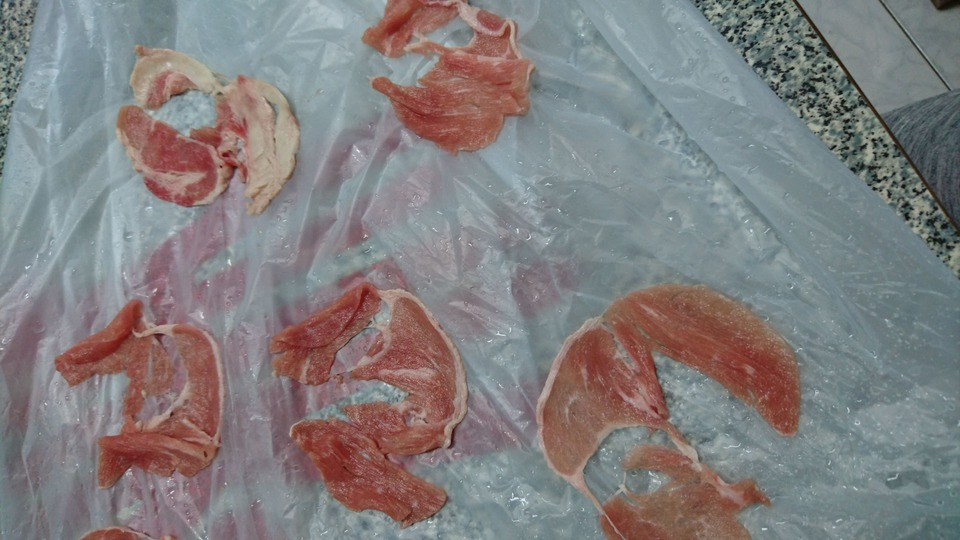restructured meat: (534, 281, 807, 540), (267, 286, 467, 528), (116, 42, 304, 218), (49, 302, 237, 478), (361, 1, 540, 160)
